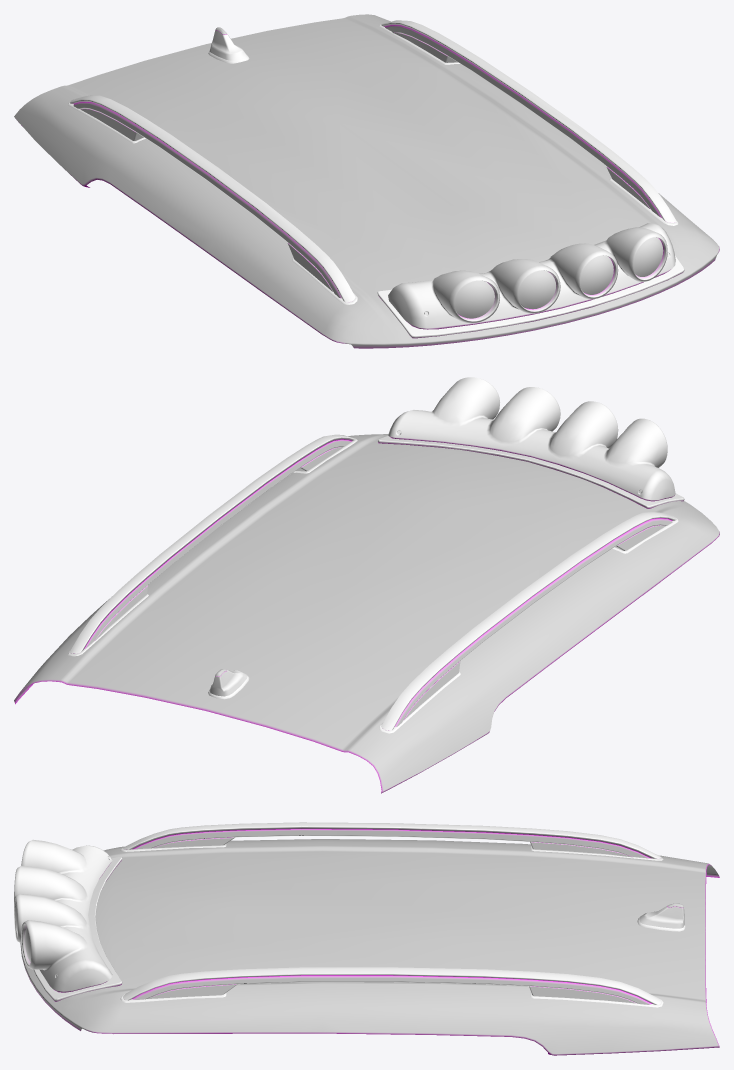
Rendered from Car_Mini_CountrymanJCW_2017_Roof_SetG.fbx.
3 views of the same model, one above another, from view 1: azimuth 30°, elevation 25°; view 2: azimuth 150°, elevation 25°; view 3: azimuth 270°, elevation 25° (orthographic). The views are drawn at different scales.
Parts seen in each view (by area): view 1: Roof 6; view 2: Roof 6; view 3: Roof 6.
Boxes of the visible parts, left/top/right/bottom form: Roof 6: left=14, top=14, right=719, bottom=348; Roof 6: left=14, top=377, right=719, bottom=793; Roof 6: left=14, top=822, right=719, bottom=1055.
Bounding box in the file's own units: 1.28 × 0.255 × 2.03.
